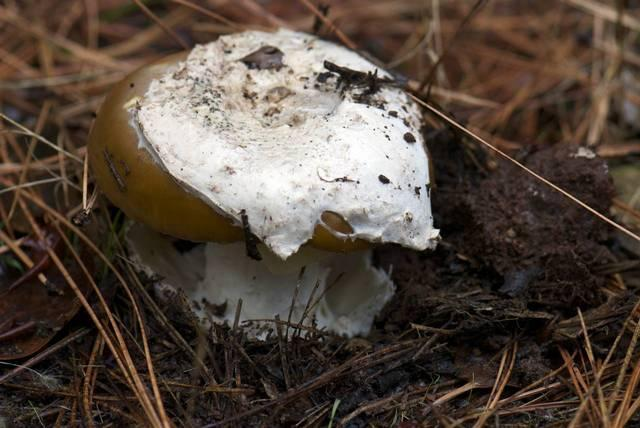Edible Mushroom: (85, 26, 442, 342)
